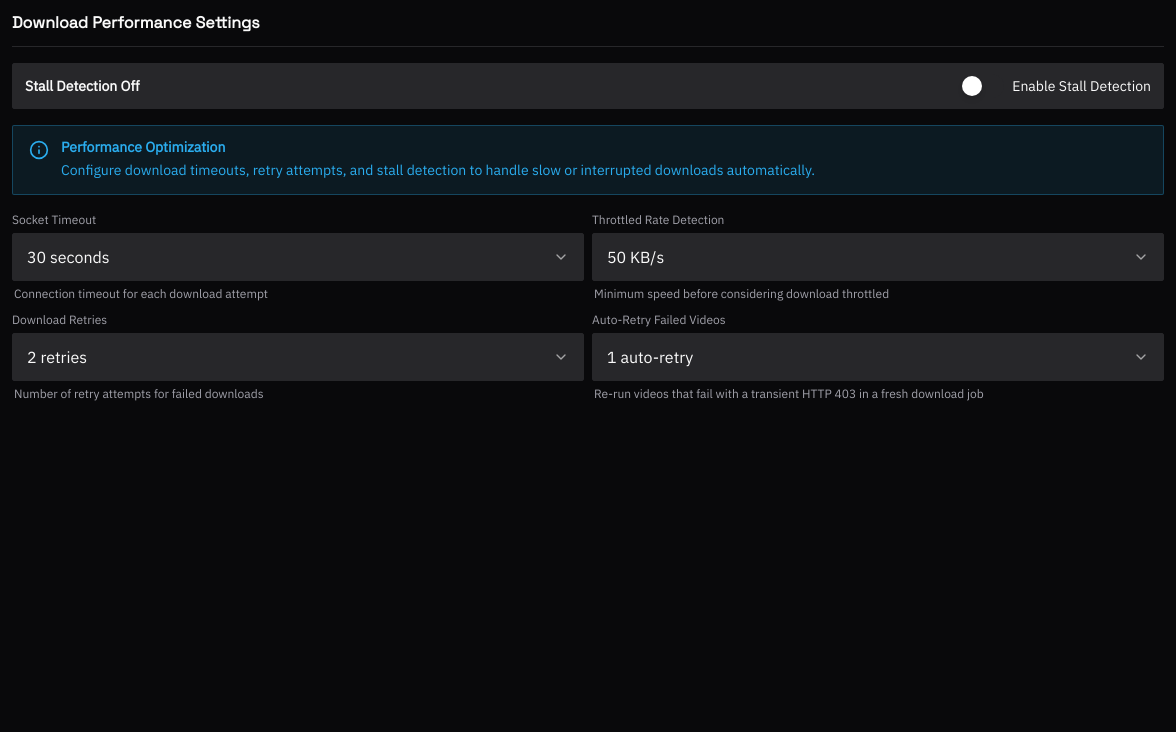
Test: DownloadPerformanceSection Component › Throttled Rate Detection Select › displays all throttled rate options
Click the button "50 KB/s".
click(636, 257)  # box [592,233,1164,281]
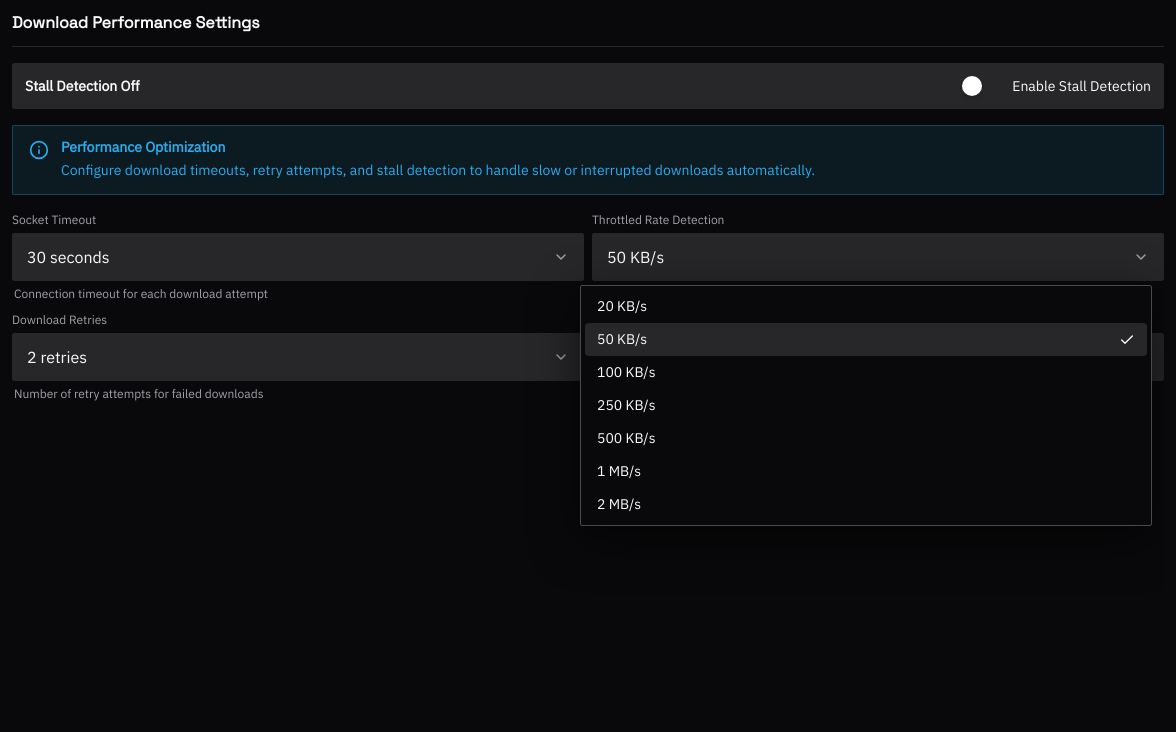
Expected: the option "20 KB/s" is shown, [597,297,647,315]
Expected: the option "50 KB/s" is shown, [585,323,1147,356]
Expected: the option "100 KB/s" is shown, [597,363,656,381]
